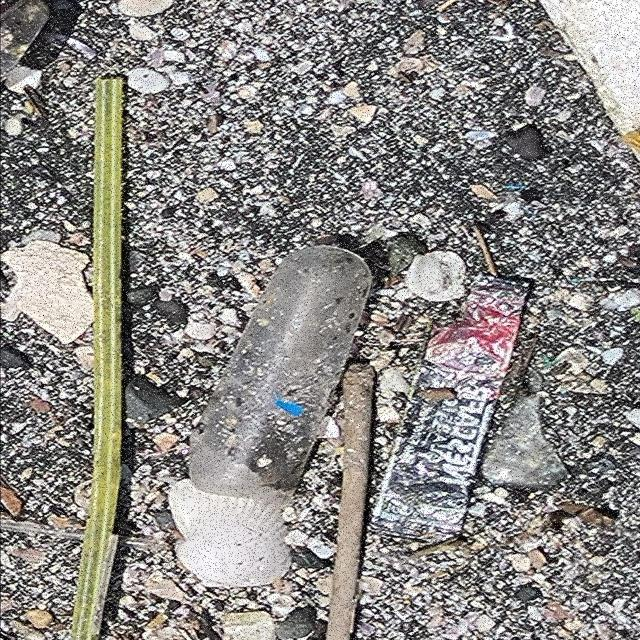plastic_waste: (369, 275, 529, 544), (68, 80, 124, 640)
